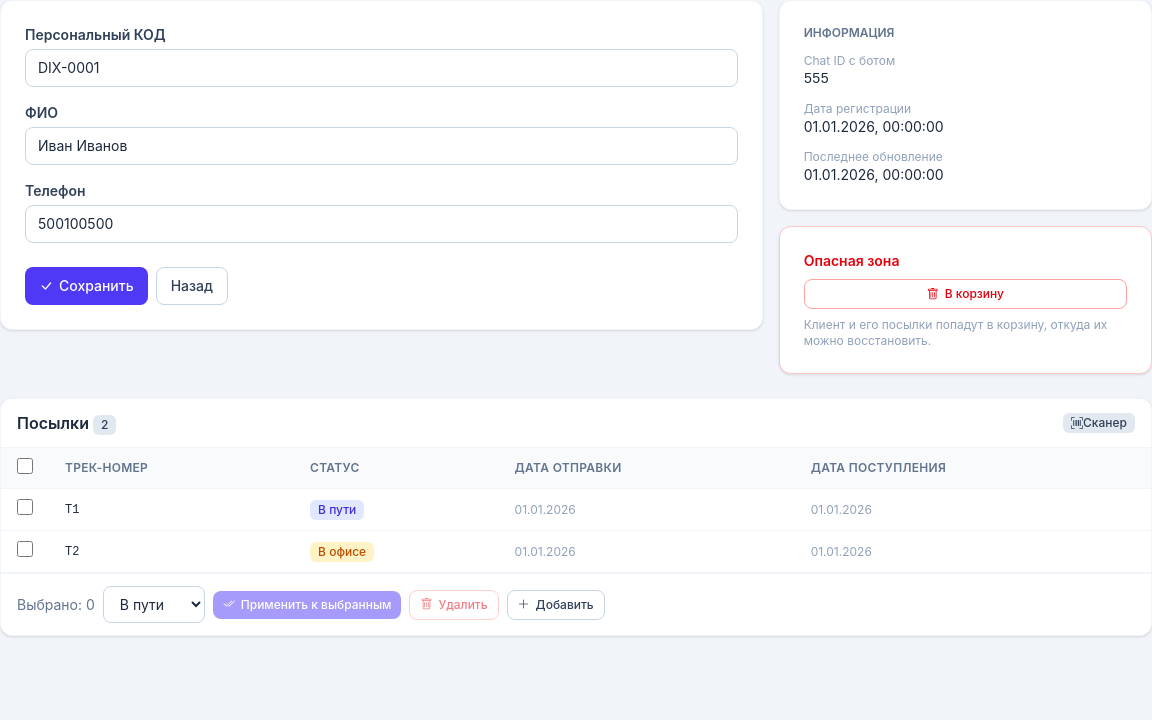
UserDetailView — add package modal › is hidden by default and opens from the footer button
Expected: the text "Новая посылка" is not shown
Click the button with class "btn-outline" showing "Добавить".
click(556, 604)  # box [507, 590, 605, 620]
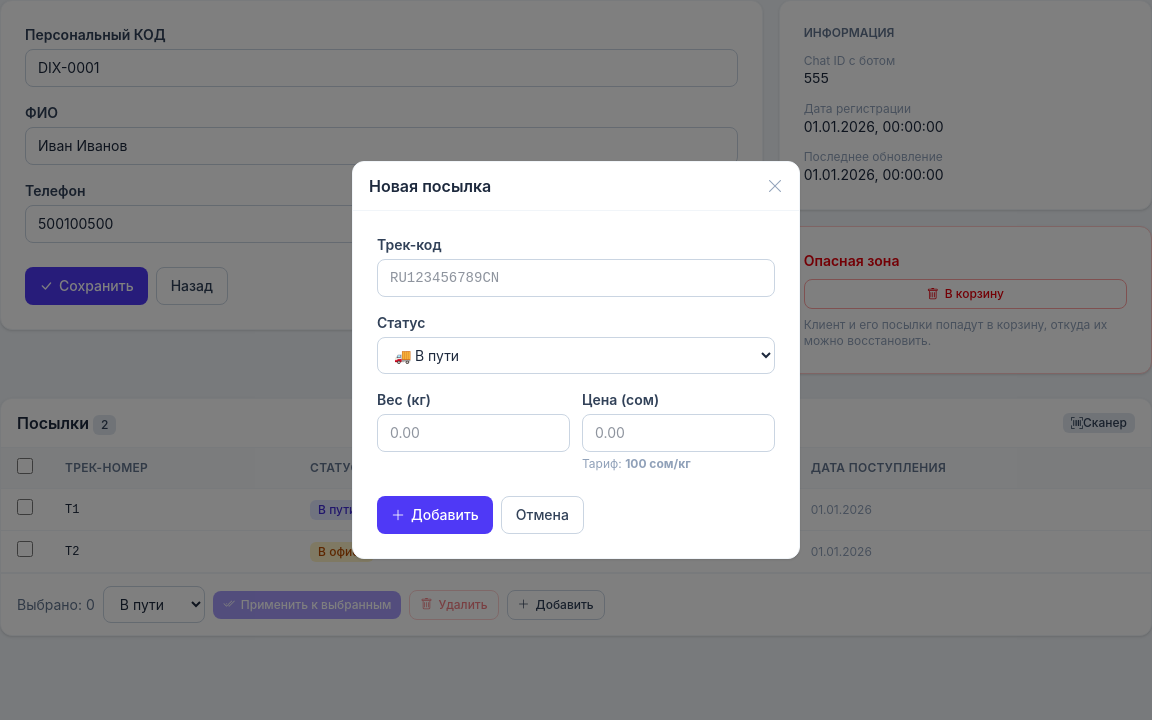
Now the text "Новая посылка" is shown, box [369, 174, 491, 198]
